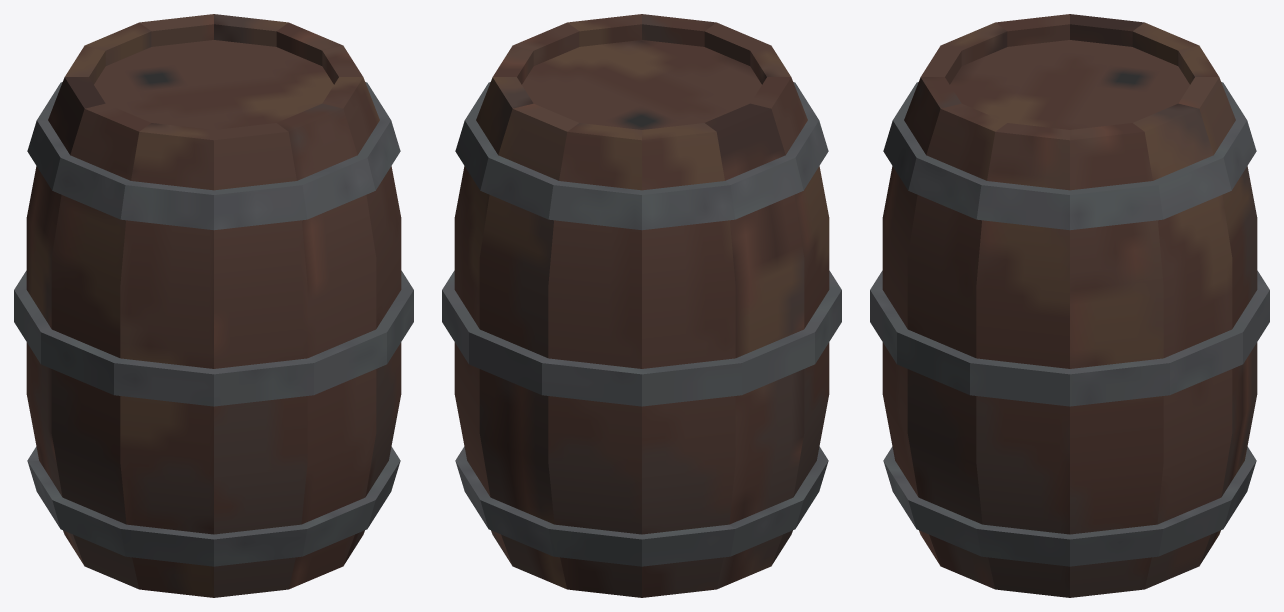
File: barrel2.fbx
3 renders of one model, left to right at view 1: azimuth 30°, elevation 25°; view 2: azimuth 150°, elevation 25°; view 3: azimuth 270°, elevation 25°, orthographic.
Parts seen in each view (by area): view 1: Barrel2; view 2: Barrel2; view 3: Barrel2.
Boxes of the visible parts, left/top/right/bottom form: Barrel2: left=14, top=14, right=413, bottom=597; Barrel2: left=442, top=14, right=841, bottom=597; Barrel2: left=870, top=14, right=1269, bottom=597.
Size of the model in its own units: 68.74 by 86.83 by 68.74.
1 material, 1 textured.
